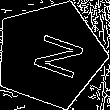N_W: (18, 27, 81, 82)
